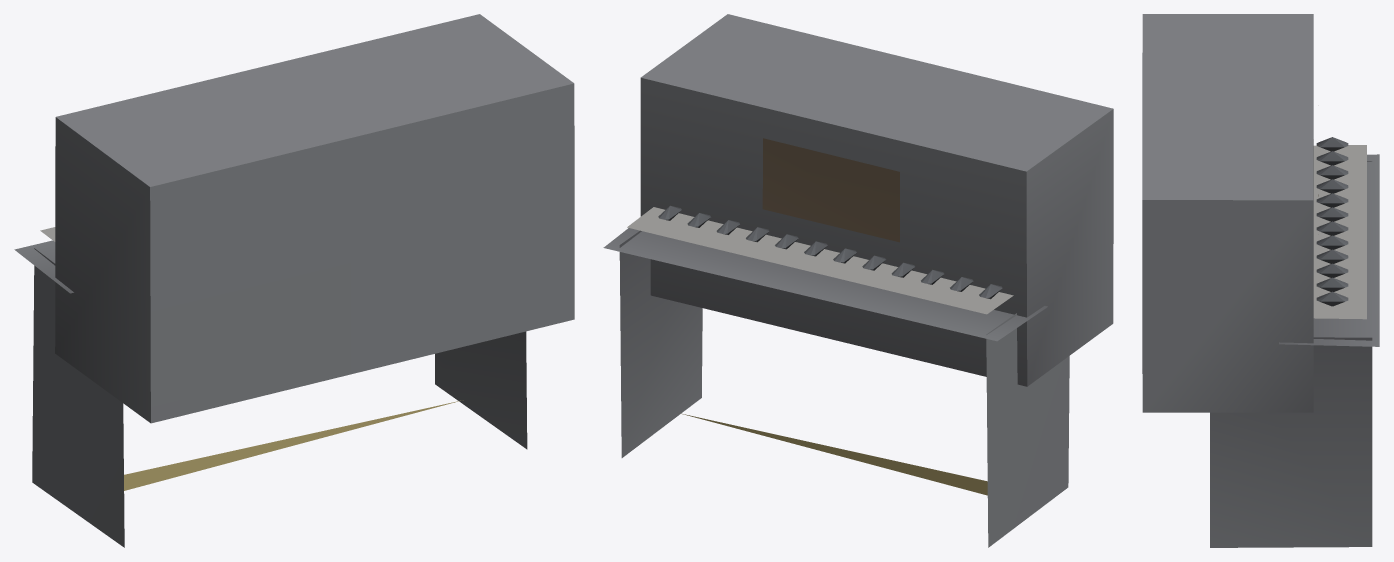
Rendered from furn_piano__black_low.glb.
The picture shows the model from 3 angles, left to right: view 1: azimuth 30°, elevation 25°; view 2: azimuth 150°, elevation 25°; view 3: azimuth 270°, elevation 25°; orthographic projection. The views are drawn at different scales.
Size of the model in its own units: 1.42 by 1.23 by 0.7502.
